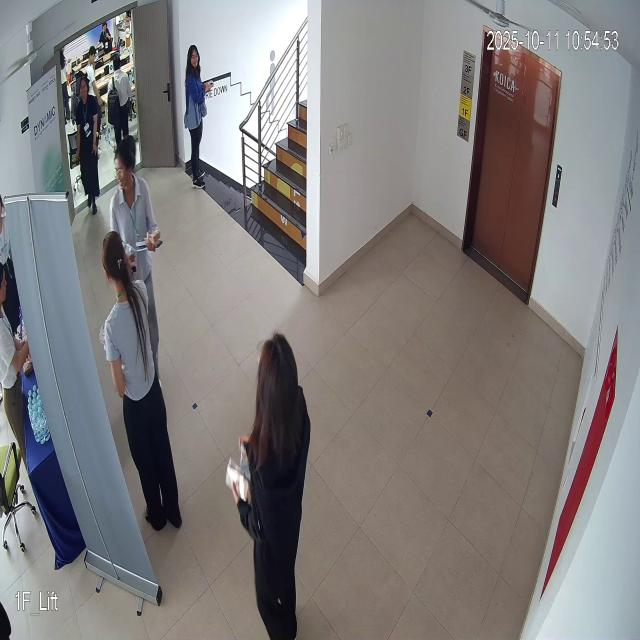face: (110, 134, 146, 198)
